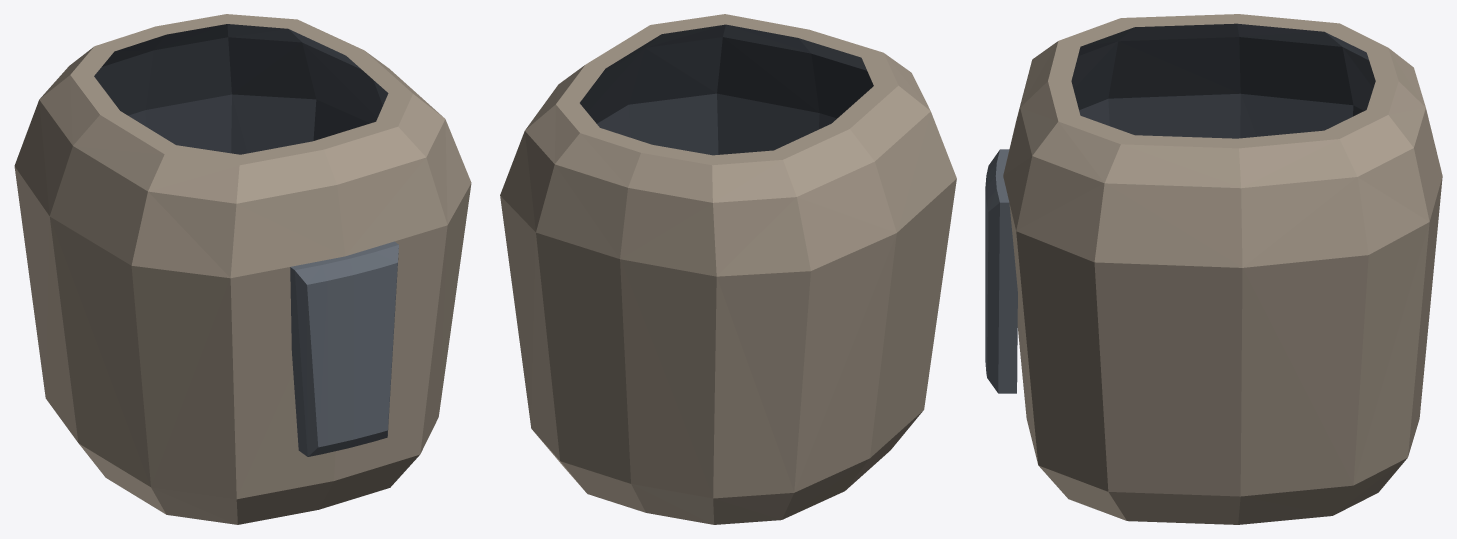
The model's file is forearm_medium.glb.
The picture shows the model from 3 angles, left to right: view 1: azimuth 30°, elevation 25°; view 2: azimuth 150°, elevation 25°; view 3: azimuth 270°, elevation 25°; orthographic projection. The views are drawn at different scales.
Visible parts, largest first — view 1: forearm_medium; view 2: forearm_medium; view 3: forearm_medium.
Part boxes in pixels (<box>): forearm_medium: <box>14,14,471,524</box>; forearm_medium: <box>500,14,956,524</box>; forearm_medium: <box>985,14,1442,524</box>.
Bounding box in the file's own units: 1.04 × 1 × 1.09.
